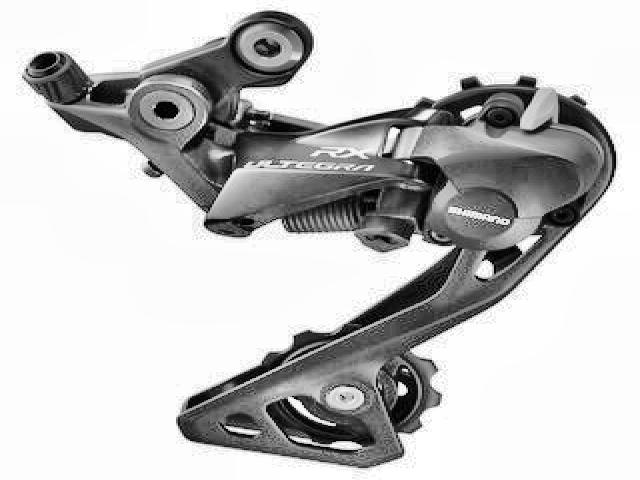rear_derailleur: (18, 8, 622, 470)
